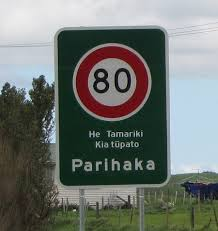Speed_limit_80km: (72, 44, 151, 121)
